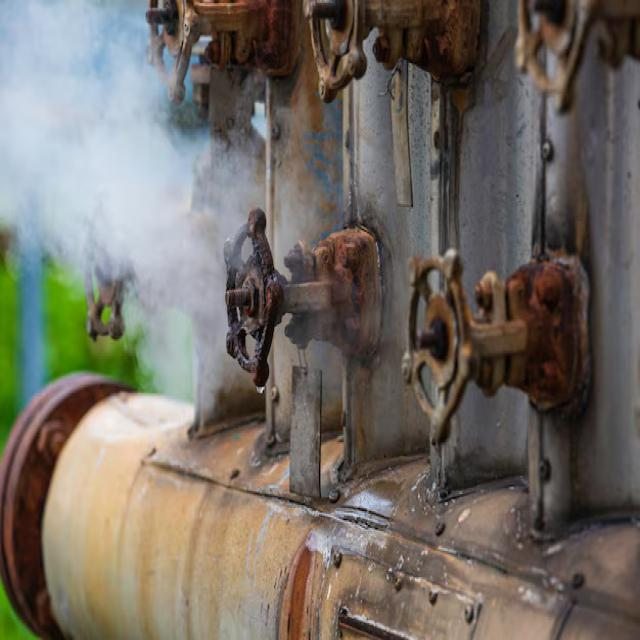compressor: (1, 0, 638, 637)
corrosion detected: (399, 241, 593, 505), (222, 204, 383, 499), (302, 0, 488, 103), (145, 0, 303, 104), (219, 204, 287, 396)
